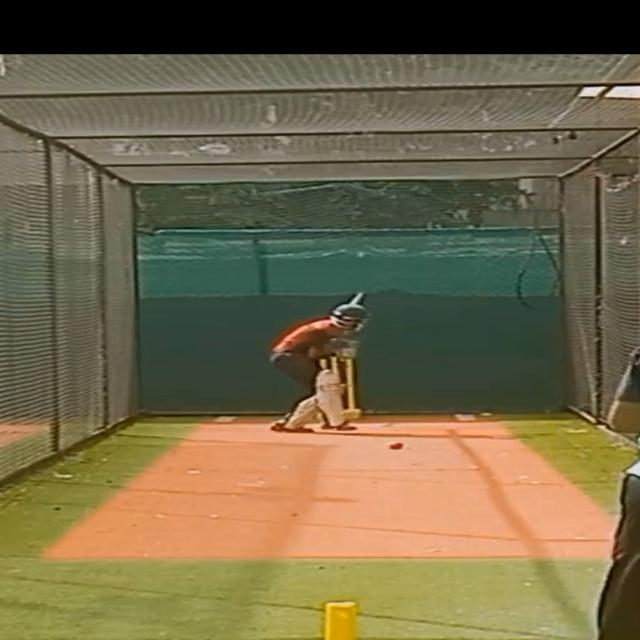ball: (381, 438, 407, 452)
stump: (314, 359, 360, 419)
